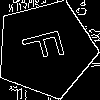F: (20, 24, 75, 66)
